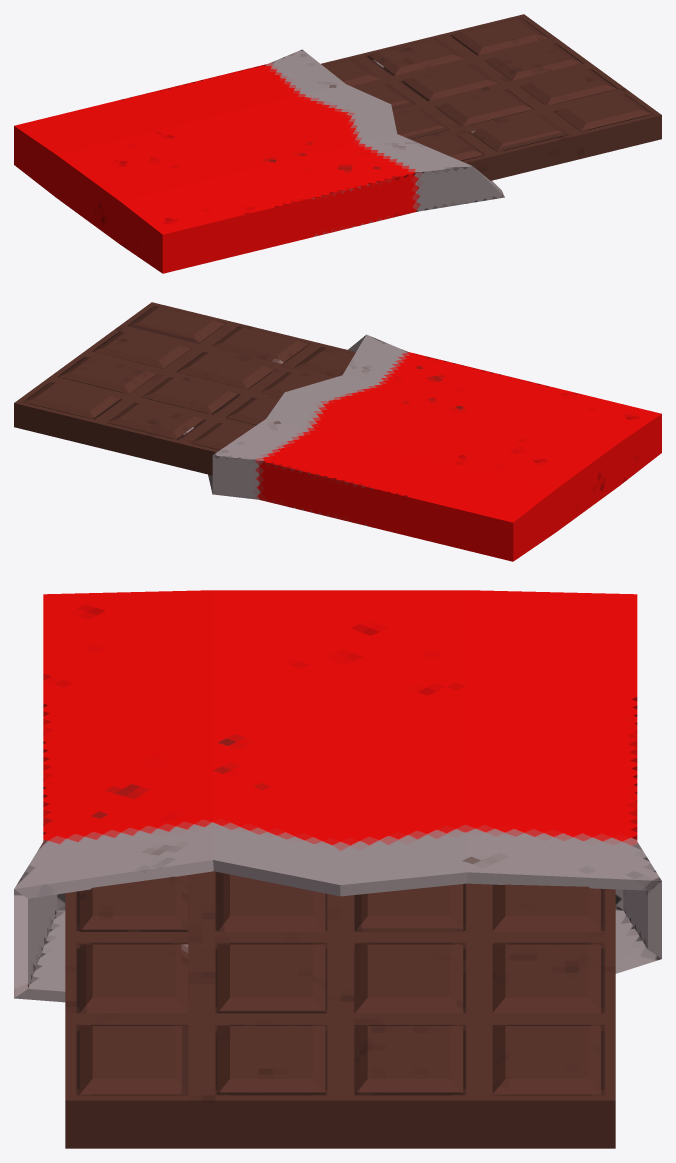
Rendered from Chocolate.fbx.
The picture shows the model from 3 angles, top to bottom: view 1: azimuth 30°, elevation 25°; view 2: azimuth 150°, elevation 25°; view 3: azimuth 270°, elevation 25°; orthographic projection. The views are drawn at different scales.
Visible parts, largest first — view 1: Chocolate; view 2: Chocolate; view 3: Chocolate.
Part boxes in pixels (x1=…): Chocolate: x1=14, y1=14, x2=661, y2=273; Chocolate: x1=14, y1=302, x2=661, y2=561; Chocolate: x1=14, y1=590, x2=661, y2=1148.
Size of the model in its own units: 47.98 by 3.92 by 26.74.
Materials: 1 (1 with a texture image).
